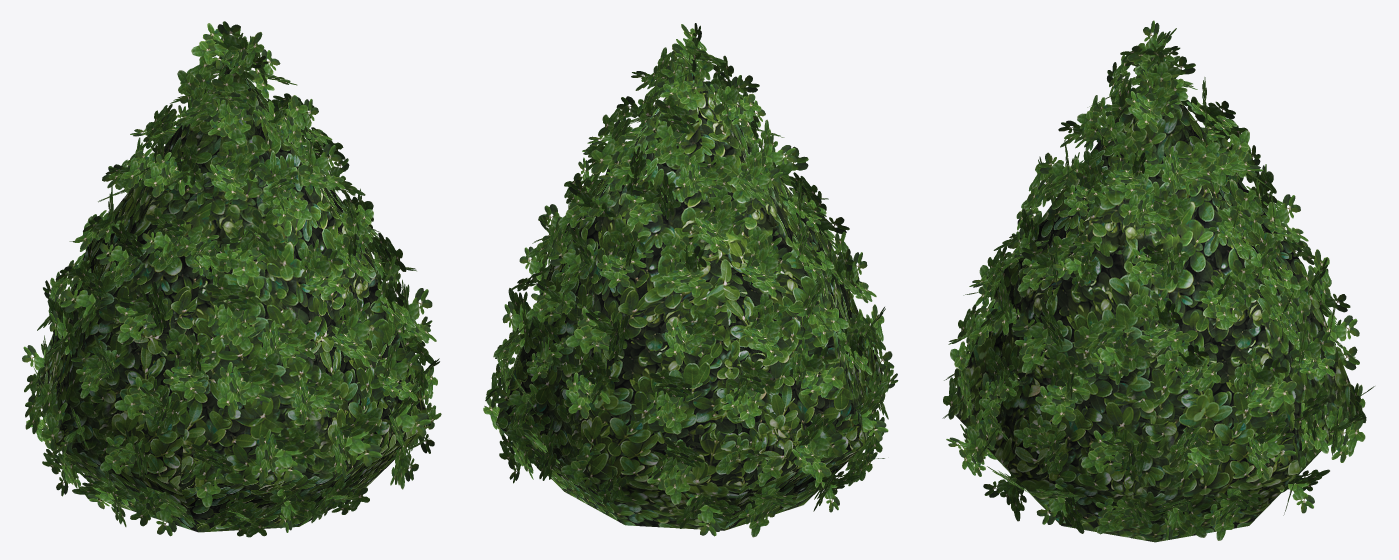
File: hedge_shape_A.FBX
The picture shows the model from 3 angles, left to right: view 1: azimuth 30°, elevation 25°; view 2: azimuth 150°, elevation 25°; view 3: azimuth 270°, elevation 25°; orthographic projection.
Parts seen in each view (by area): view 1: hedge_shape_A; view 2: hedge_shape_A; view 3: hedge_shape_A.
Part boxes in pixels (x1,y1,x2,y2): hedge_shape_A: (22,21,441,537); hedge_shape_A: (483,23,898,537); hedge_shape_A: (942,20,1374,542).
Bounding box in the file's own units: 89.95 × 107 × 92.39.
